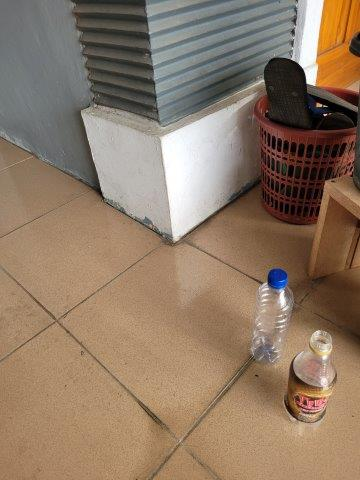botolplastik: (289, 332, 342, 428), (253, 272, 295, 369)
